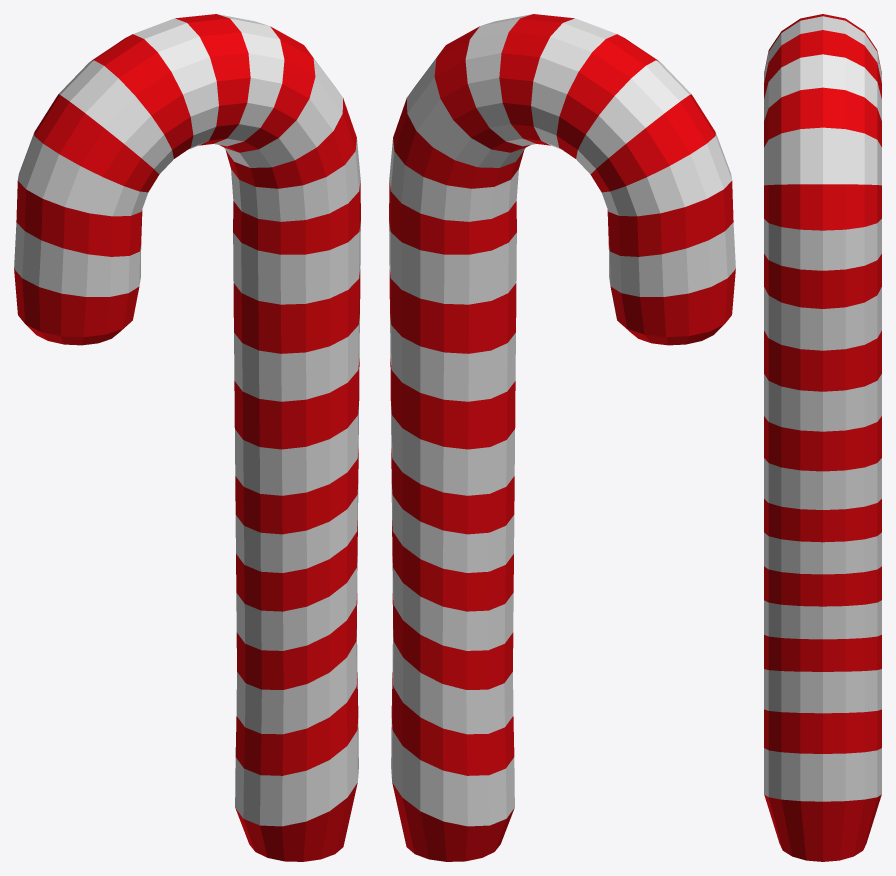
File: CandyCane-1.glb
3 renders of one model, left to right at view 1: azimuth 30°, elevation 25°; view 2: azimuth 150°, elevation 25°; view 3: azimuth 270°, elevation 25°, orthographic. The views are drawn at different scales.
Parts seen in each view (by area): view 1: Cylinder; view 2: Cylinder; view 3: Cylinder.
Part boxes in pixels (x1=…): Cylinder: x1=14, y1=14, x2=360, y2=861; Cylinder: x1=389, y1=14, x2=735, y2=861; Cylinder: x1=764, y1=14, x2=881, y2=861.
Bounding box in the file's own units: 1.34 × 3.27 × 0.4561.
